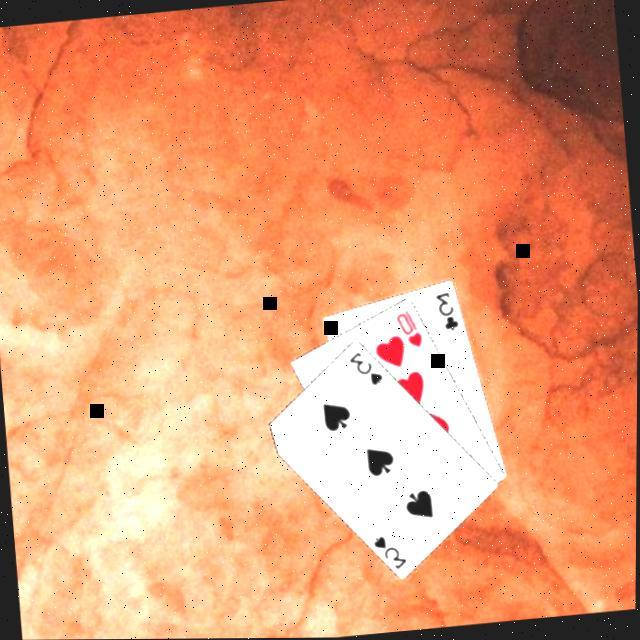10H: (394, 305, 428, 351)
3C: (434, 286, 464, 334)
3S: (348, 346, 388, 390), (372, 529, 412, 572)
